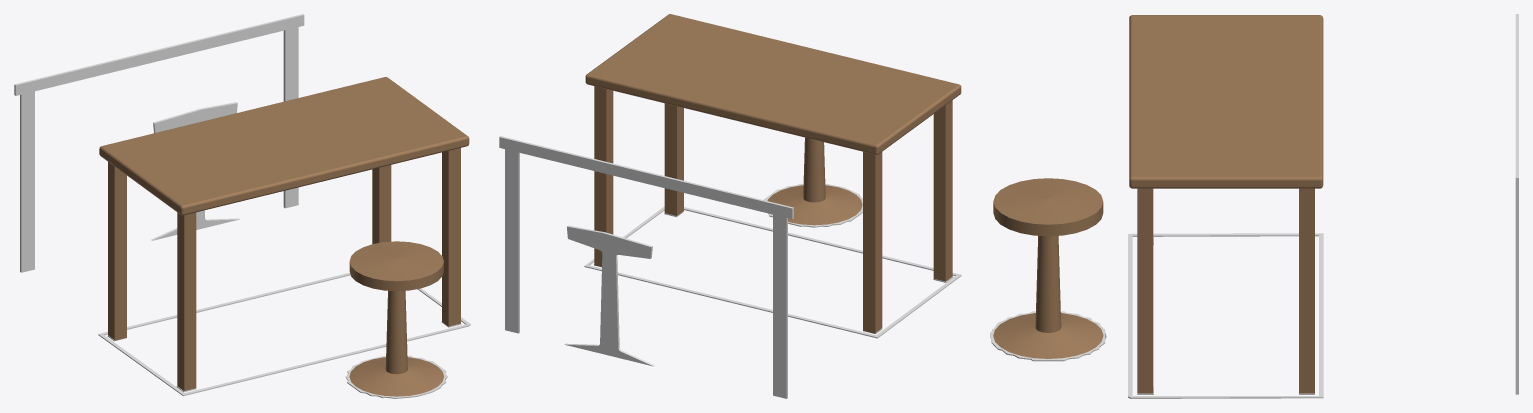
File: plan.gltf
The picture shows the model from 3 angles, left to right: view 1: azimuth 30°, elevation 25°; view 2: azimuth 150°, elevation 25°; view 3: azimuth 270°, elevation 25°; orthographic projection. The views are drawn at different scales.
Visible parts, largest first — view 1: top, elevation, stool, leg_2, leg_3, leg_0, footprint, leg_1; view 2: top, elevation, stool, leg_0, leg_2, footprint, leg_1, leg_3; view 3: top, stool, footprint, leg_3, leg_1, elevation.
Boxes of the visible parts, x1,y1,x2,y2 form: top: (99,77,469,215); elevation: (14,14,304,272); stool: (348,241,445,397); leg_2: (177,212,196,390); leg_3: (442,148,460,326); leg_0: (108,162,126,340); footprint: (98,272,470,398); leg_1: (372,165,391,243); top: (585,14,961,154); elevation: (499,136,793,398); stool: (767,137,862,226); leg_0: (863,151,882,333); leg_2: (933,100,952,281); footprint: (584,183,961,338); leg_1: (594,86,613,266); leg_3: (664,103,683,215); top: (1129,15,1323,188); stool: (990,178,1106,360); footprint: (990,233,1323,398); leg_3: (1137,188,1153,393); leg_1: (1299,188,1314,393); elevation: (1515,14,1518,394).
Size of the model in its own units: 1.2 by 0.752 by 1.64.
